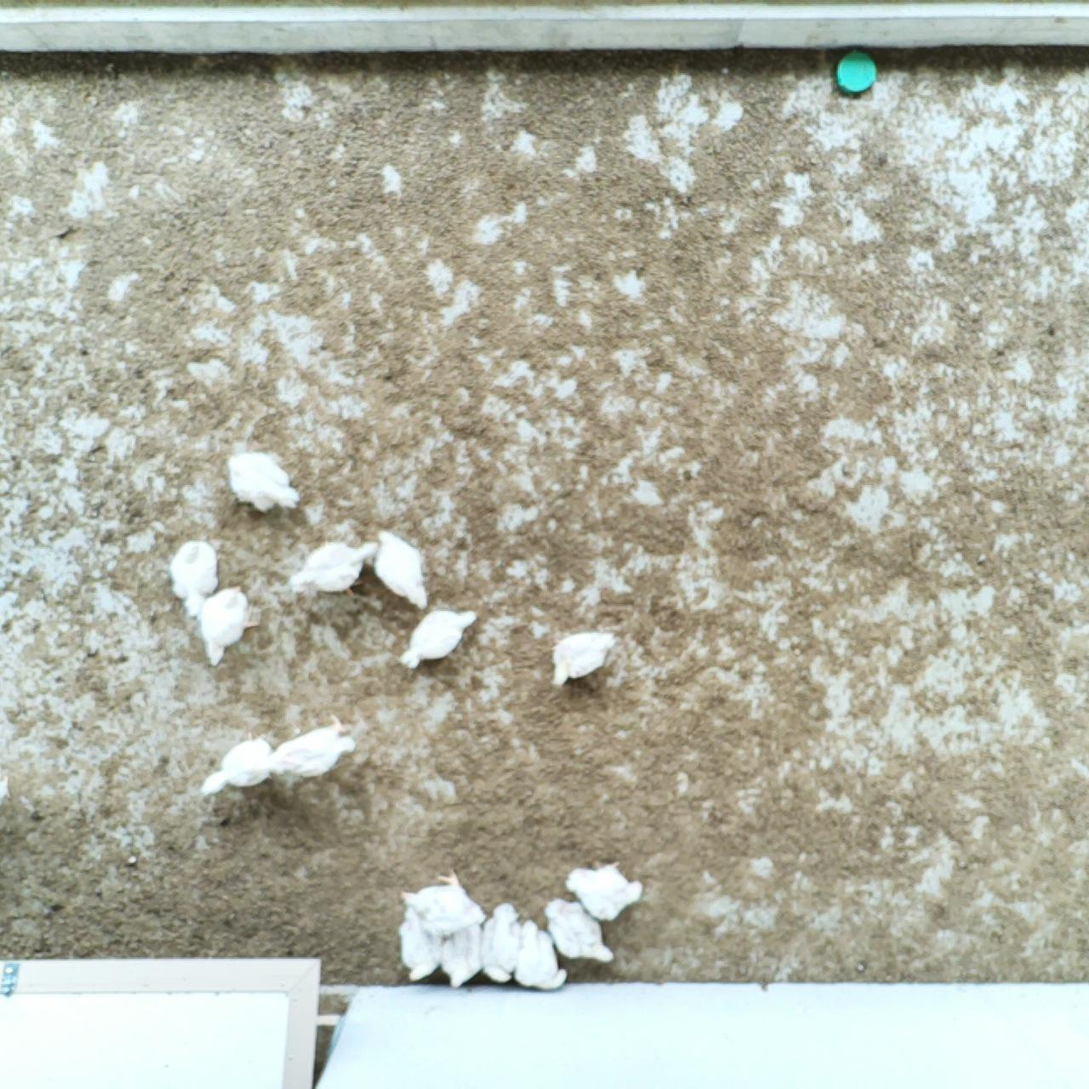chicken: (267, 712, 361, 786), (290, 538, 386, 602), (400, 871, 486, 937), (399, 605, 481, 674), (566, 856, 645, 924), (201, 580, 261, 669), (542, 893, 617, 964), (370, 524, 430, 610), (198, 733, 277, 797), (228, 446, 301, 515), (436, 907, 490, 990), (172, 531, 221, 620), (477, 900, 525, 986), (513, 918, 566, 993), (397, 905, 447, 982), (551, 629, 612, 686)
